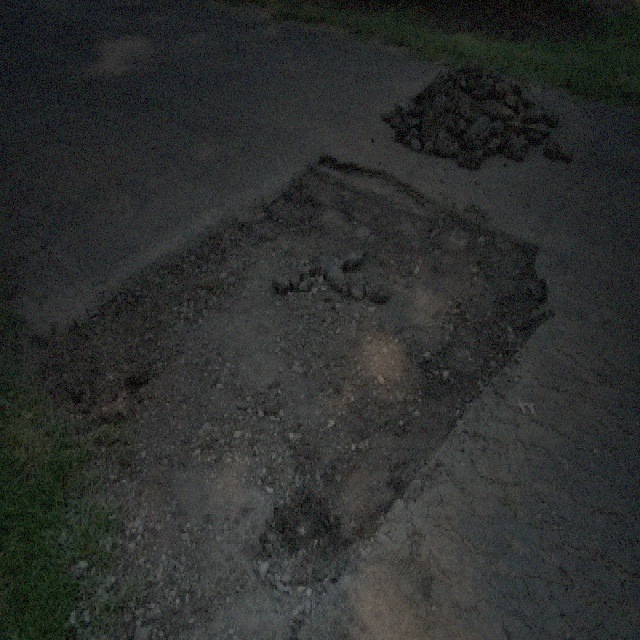pothole: (40, 140, 565, 586)
